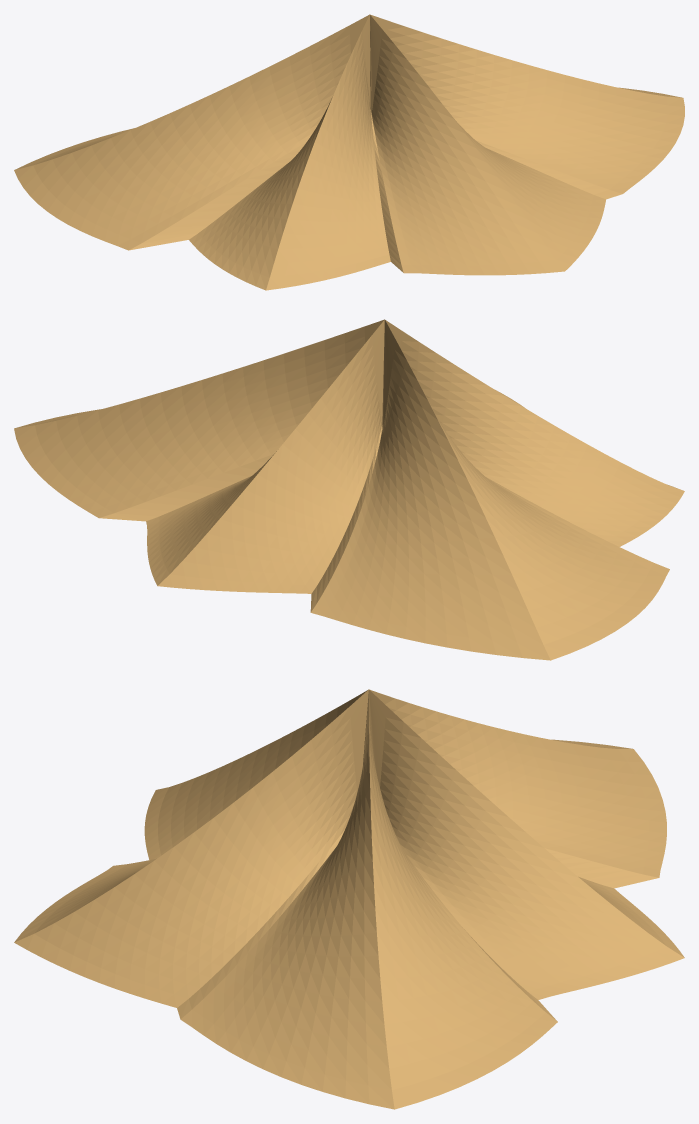
3 renders of one model, top to bottom at view 1: azimuth 30°, elevation 25°; view 2: azimuth 150°, elevation 25°; view 3: azimuth 270°, elevation 25°, orthographic. The views are drawn at different scales.
Visible parts, largest first — view 1: five_connected_sand_ridges_and_saddles; view 2: five_connected_sand_ridges_and_saddles; view 3: five_connected_sand_ridges_and_saddles.
Part boxes in pixels (x1,y1,x2,y2): five_connected_sand_ridges_and_saddles: [14, 14, 684, 290]; five_connected_sand_ridges_and_saddles: [14, 319, 684, 660]; five_connected_sand_ridges_and_saddles: [14, 689, 684, 1109].
Bounding box in the file's own units: 366 × 100 × 279.
